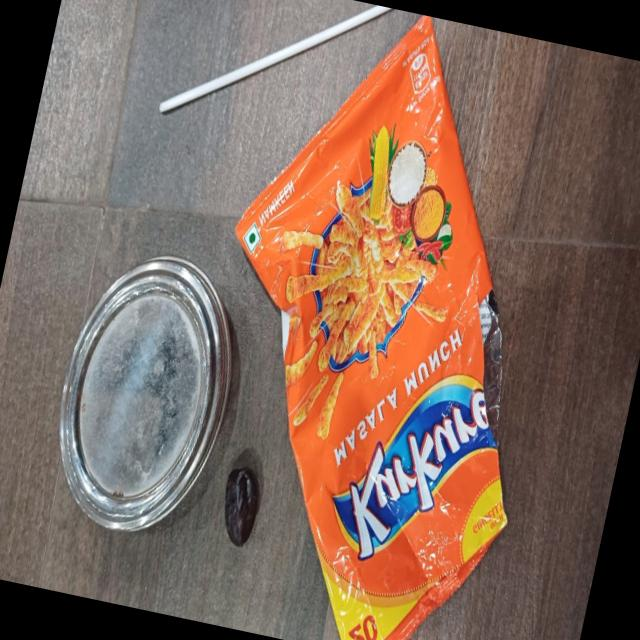Date-Bio: (210, 456, 268, 556)
Plastic-NonBio: (233, 16, 517, 640)
Steel-NonBio: (37, 234, 253, 546)
Straw-NonBio: (156, 5, 403, 121)
